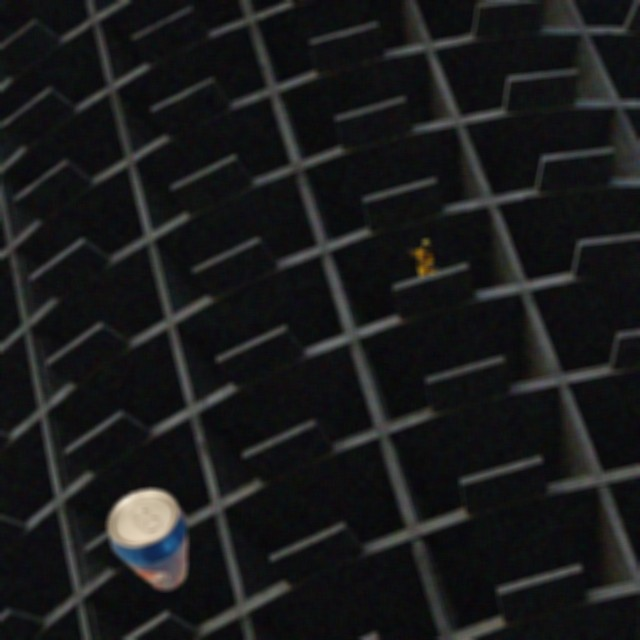pepsi: (99, 480, 205, 602)
